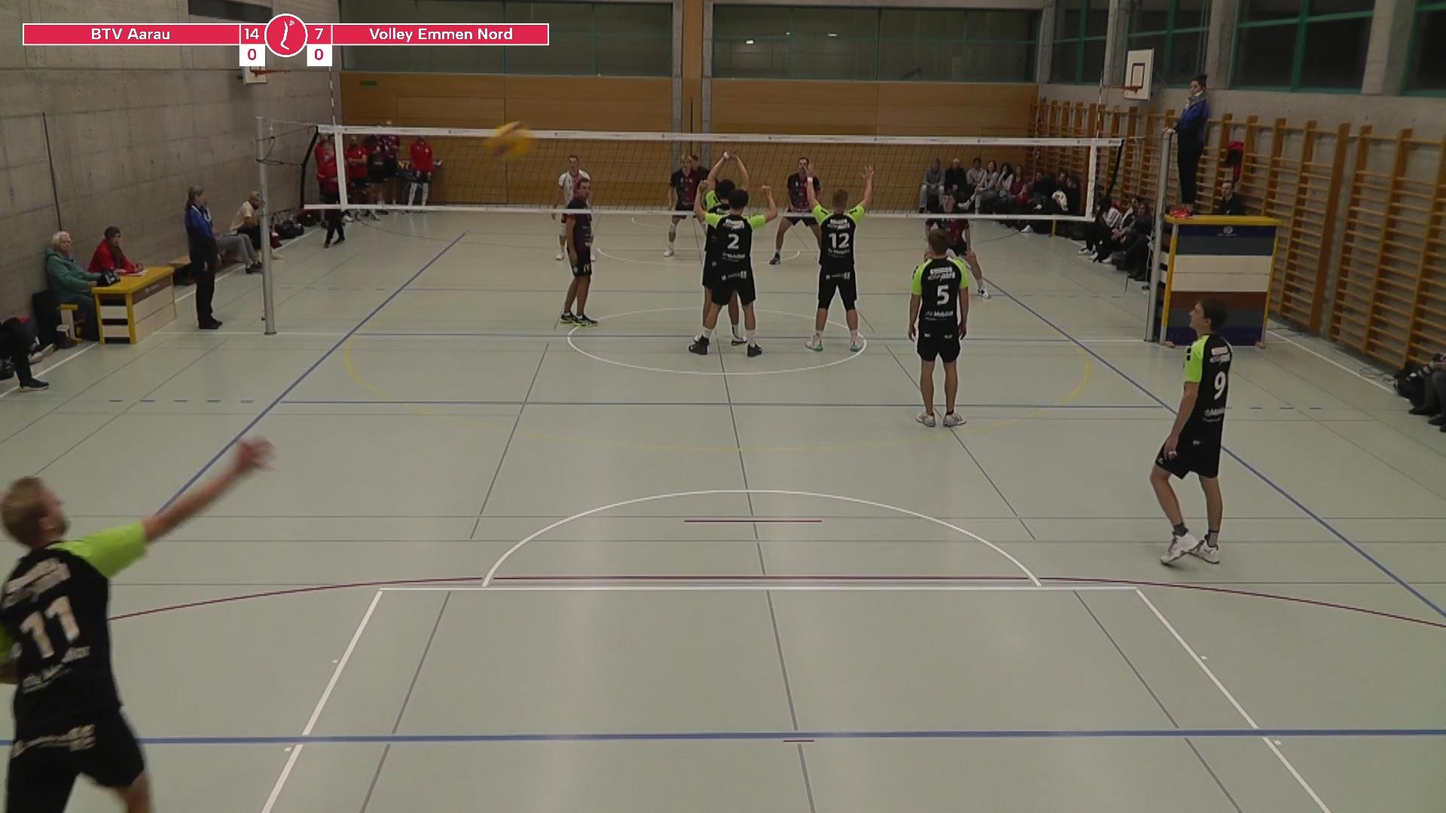Player: (0, 440, 270, 812), (1151, 298, 1232, 563), (688, 186, 777, 357), (804, 166, 873, 352), (908, 230, 971, 426), (560, 177, 597, 326), (770, 157, 820, 264), (932, 218, 990, 299), (664, 154, 704, 257), (554, 156, 590, 207), (702, 227, 717, 315)
ball: (486, 113, 537, 160)
